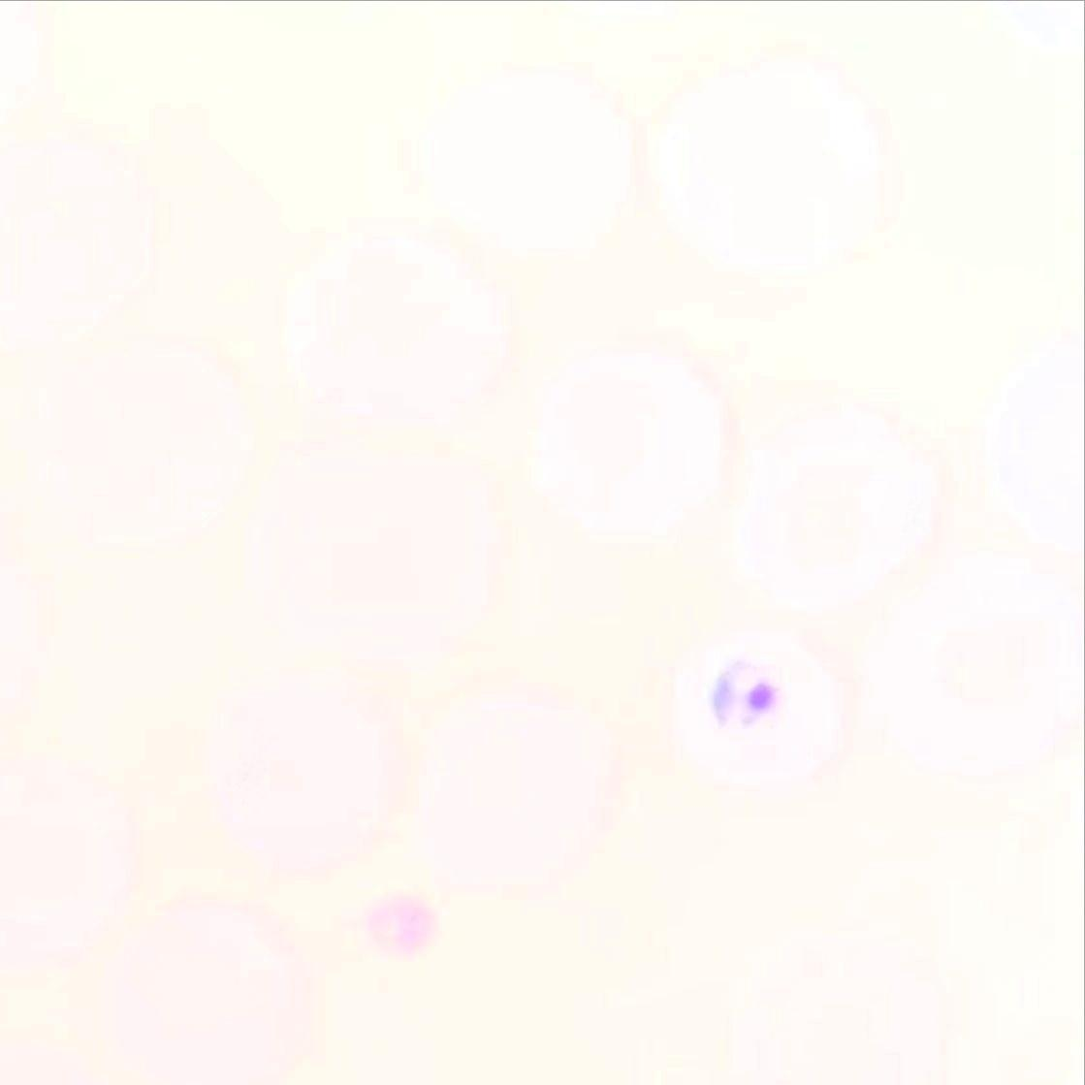Infected: (656, 622, 840, 810)
